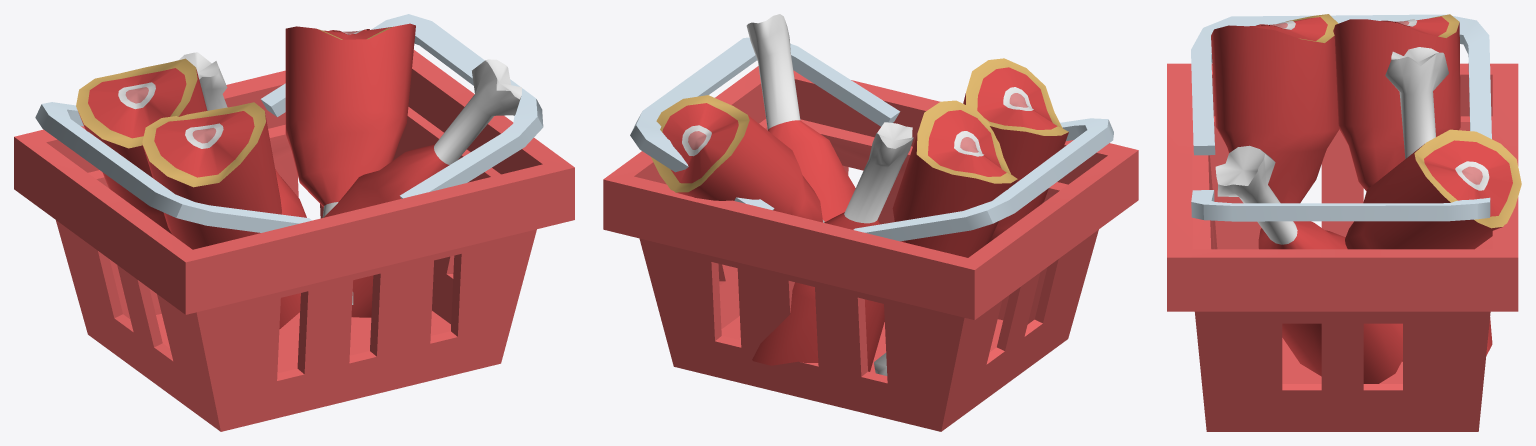
The model's file is MeatCart.fbx.
3 views of the same model, side by side, from view 1: azimuth 30°, elevation 25°; view 2: azimuth 150°, elevation 25°; view 3: azimuth 270°, elevation 25° (orthographic). The views are drawn at different scales.
Visible parts, largest first — view 1: polySurface53; view 2: polySurface53; view 3: polySurface53.
Part boxes in pixels (x1,y1,x2,y2): polySurface53: (14,14,574,431); polySurface53: (603,14,1138,431); polySurface53: (1167,14,1521,431).
Size of the model in its own units: 14.71 by 10.43 by 11.17.
